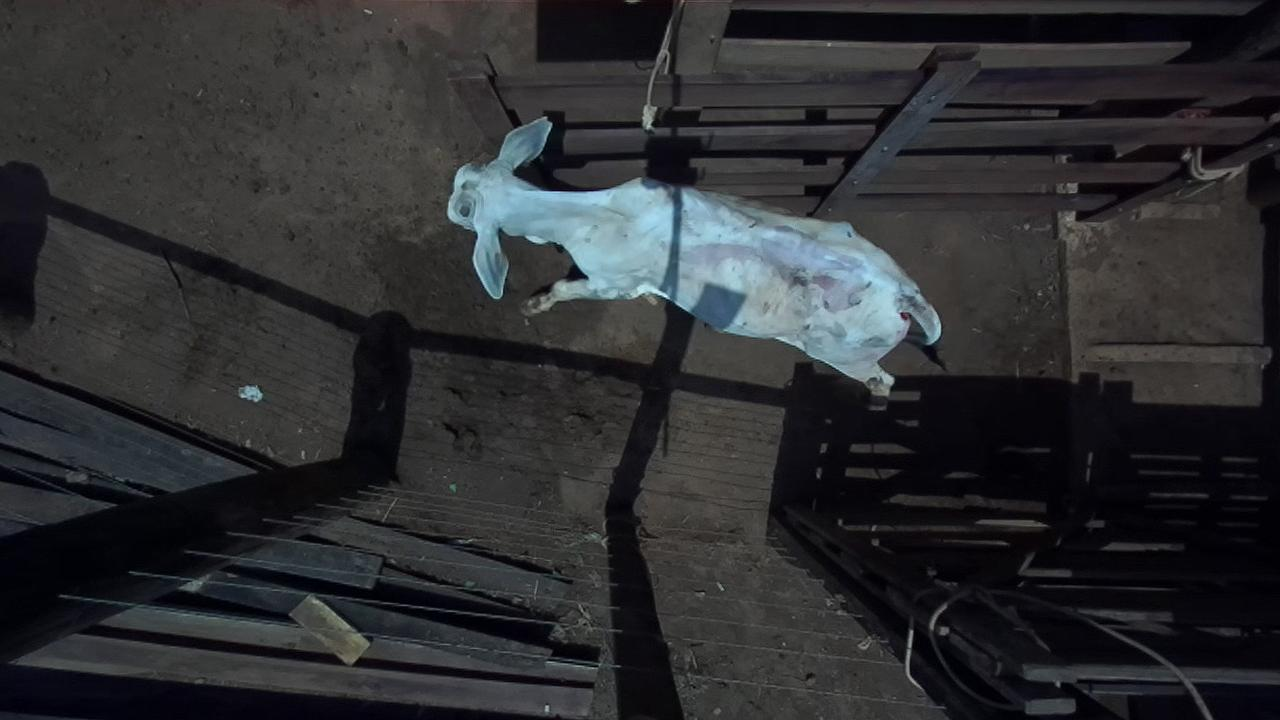cattle: (445, 114, 943, 399)
